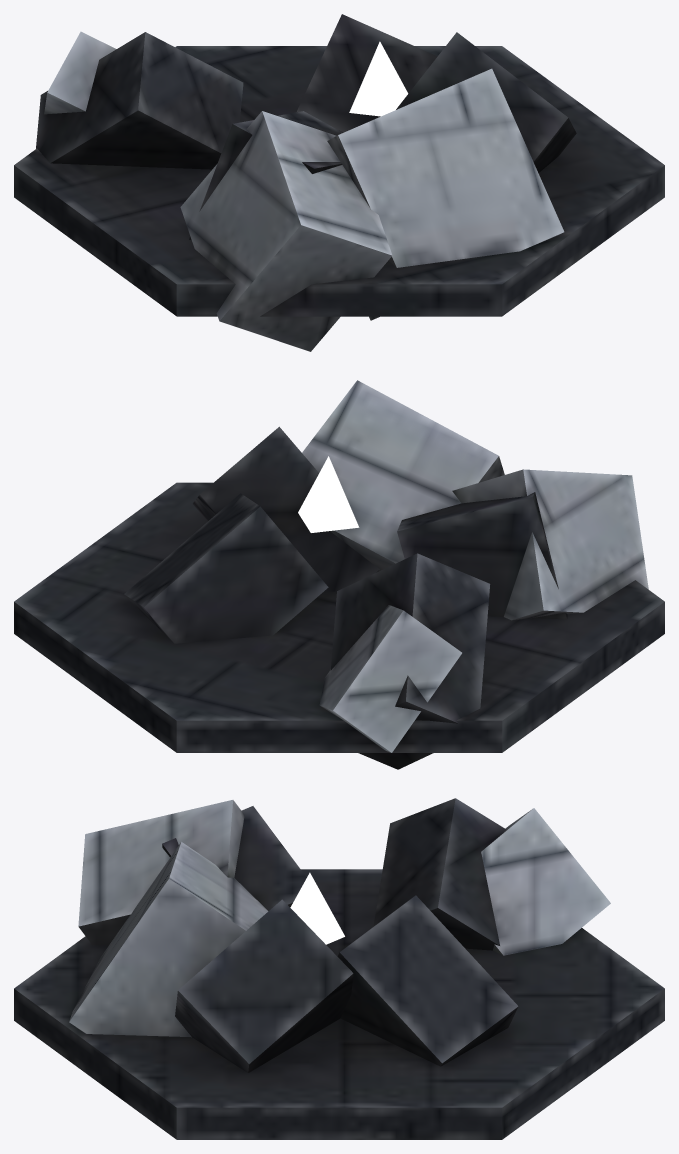
The model's file is fx_wreck.glb.
3 renders of one model, top to bottom at view 1: azimuth 30°, elevation 25°; view 2: azimuth 150°, elevation 25°; view 3: azimuth 270°, elevation 25°, orthographic.
Visible parts, largest first — view 1: fx_wreck; view 2: fx_wreck; view 3: fx_wreck.
Boxes of the visible parts, box(x1,y1,x2,y2) form: fx_wreck: box(14, 14, 664, 351); fx_wreck: box(14, 380, 664, 769); fx_wreck: box(14, 798, 664, 1139).
Bounding box in the file's own units: 0.9526 × 0.452 × 1.1.
1 material, 1 textured.
